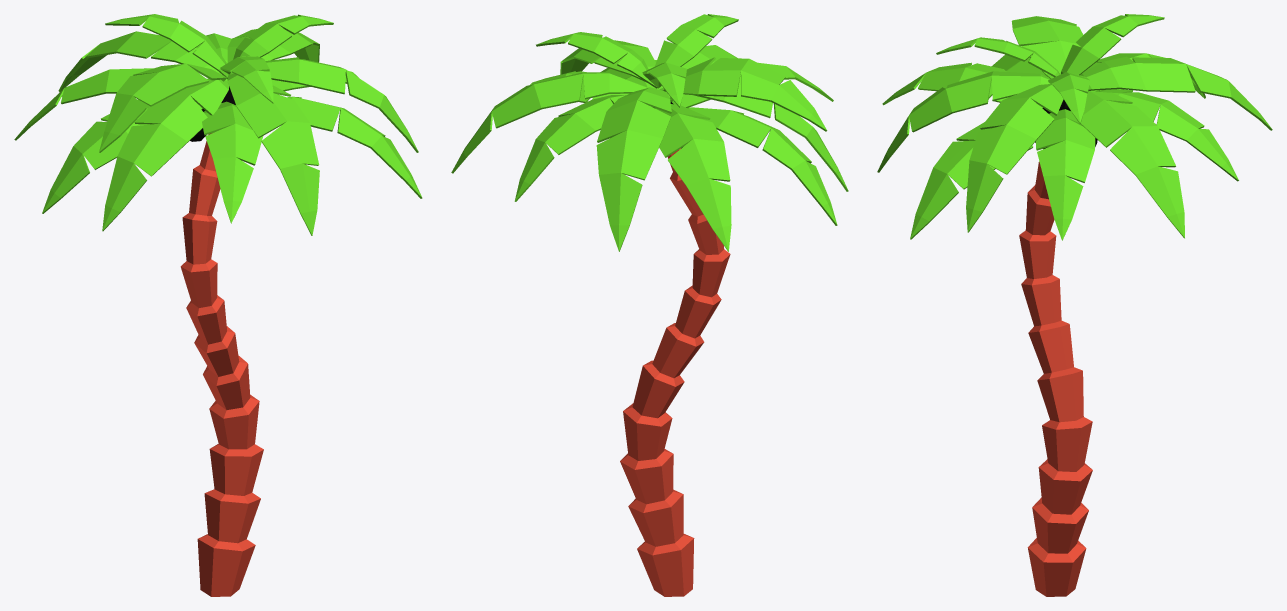
Rendered from Palm_6.fbx.
3 views of the same model, side by side, from view 1: azimuth 30°, elevation 25°; view 2: azimuth 150°, elevation 25°; view 3: azimuth 270°, elevation 25° (orthographic).
Parts seen in each view (by area): view 1: Palm_6; view 2: Palm_6; view 3: Palm_6.
Part boxes in pixels (x1,y1,x2,y2): Palm_6: [14, 14, 422, 596]; Palm_6: [451, 14, 848, 596]; Palm_6: [877, 14, 1272, 596].
Bounding box in the file's own units: 2.62 × 4.01 × 2.58.
